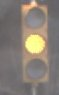Yellow: (13, 6, 49, 93)
